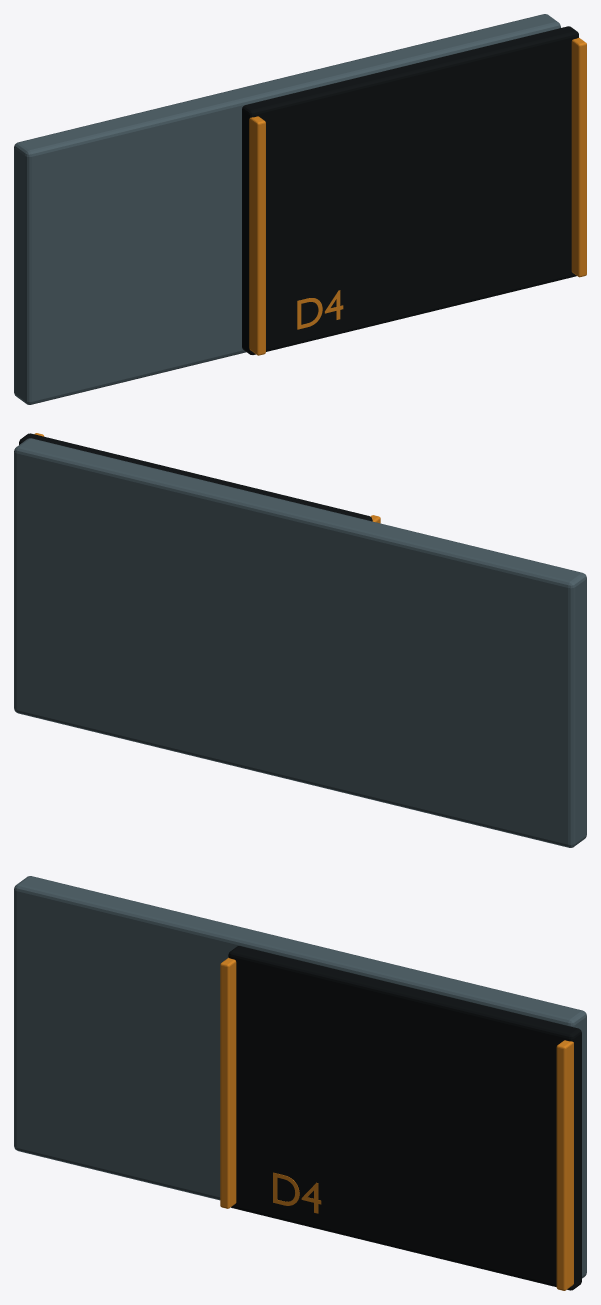
File: slot_d4.obj
3 views of the same model, one above another, from view 1: azimuth 30°, elevation 25°; view 2: azimuth 150°, elevation 25°; view 3: azimuth 330°, elevation 25° (orthographic). The views are drawn at different scales.
Parts seen in each view (by area): view 1: flex__slot_d4__staging_tray, flex__slot_d4__extension, flex__slot_d4__locator, flex__slot_d4__locator.001, flex__slot_d4__id; view 2: flex__slot_d4__extension, flex__slot_d4__staging_tray; view 3: flex__slot_d4__staging_tray, flex__slot_d4__extension, flex__slot_d4__locator.001, flex__slot_d4__locator, flex__slot_d4__id.
Boxes of the visible parts, box(x1,y1,x2,y2) form: flex__slot_d4__staging_tray: box(242, 26, 578, 354); flex__slot_d4__extension: box(14, 14, 560, 404); flex__slot_d4__locator: box(249, 116, 265, 355); flex__slot_d4__locator.001: box(571, 38, 586, 277); flex__slot_d4__id: box(297, 290, 343, 329); flex__slot_d4__extension: box(14, 438, 586, 847); flex__slot_d4__staging_tray: box(19, 433, 372, 521); flex__slot_d4__staging_tray: box(228, 946, 581, 1290); flex__slot_d4__extension: box(14, 876, 586, 1278); flex__slot_d4__locator.001: box(556, 1040, 573, 1290); flex__slot_d4__locator: box(220, 957, 236, 1208); flex__slot_d4__id: box(273, 1172, 321, 1213).
Bounding box in the file's own units: 0.244 × 0.109 × 0.0245.
